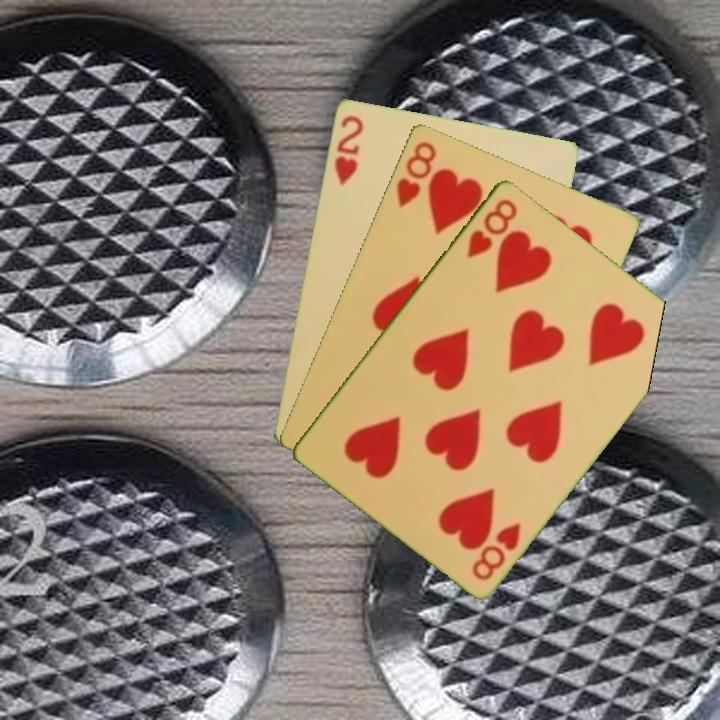2h: (330, 111, 366, 188)
8h: (463, 194, 521, 261), (468, 518, 524, 583), (392, 137, 439, 210)
